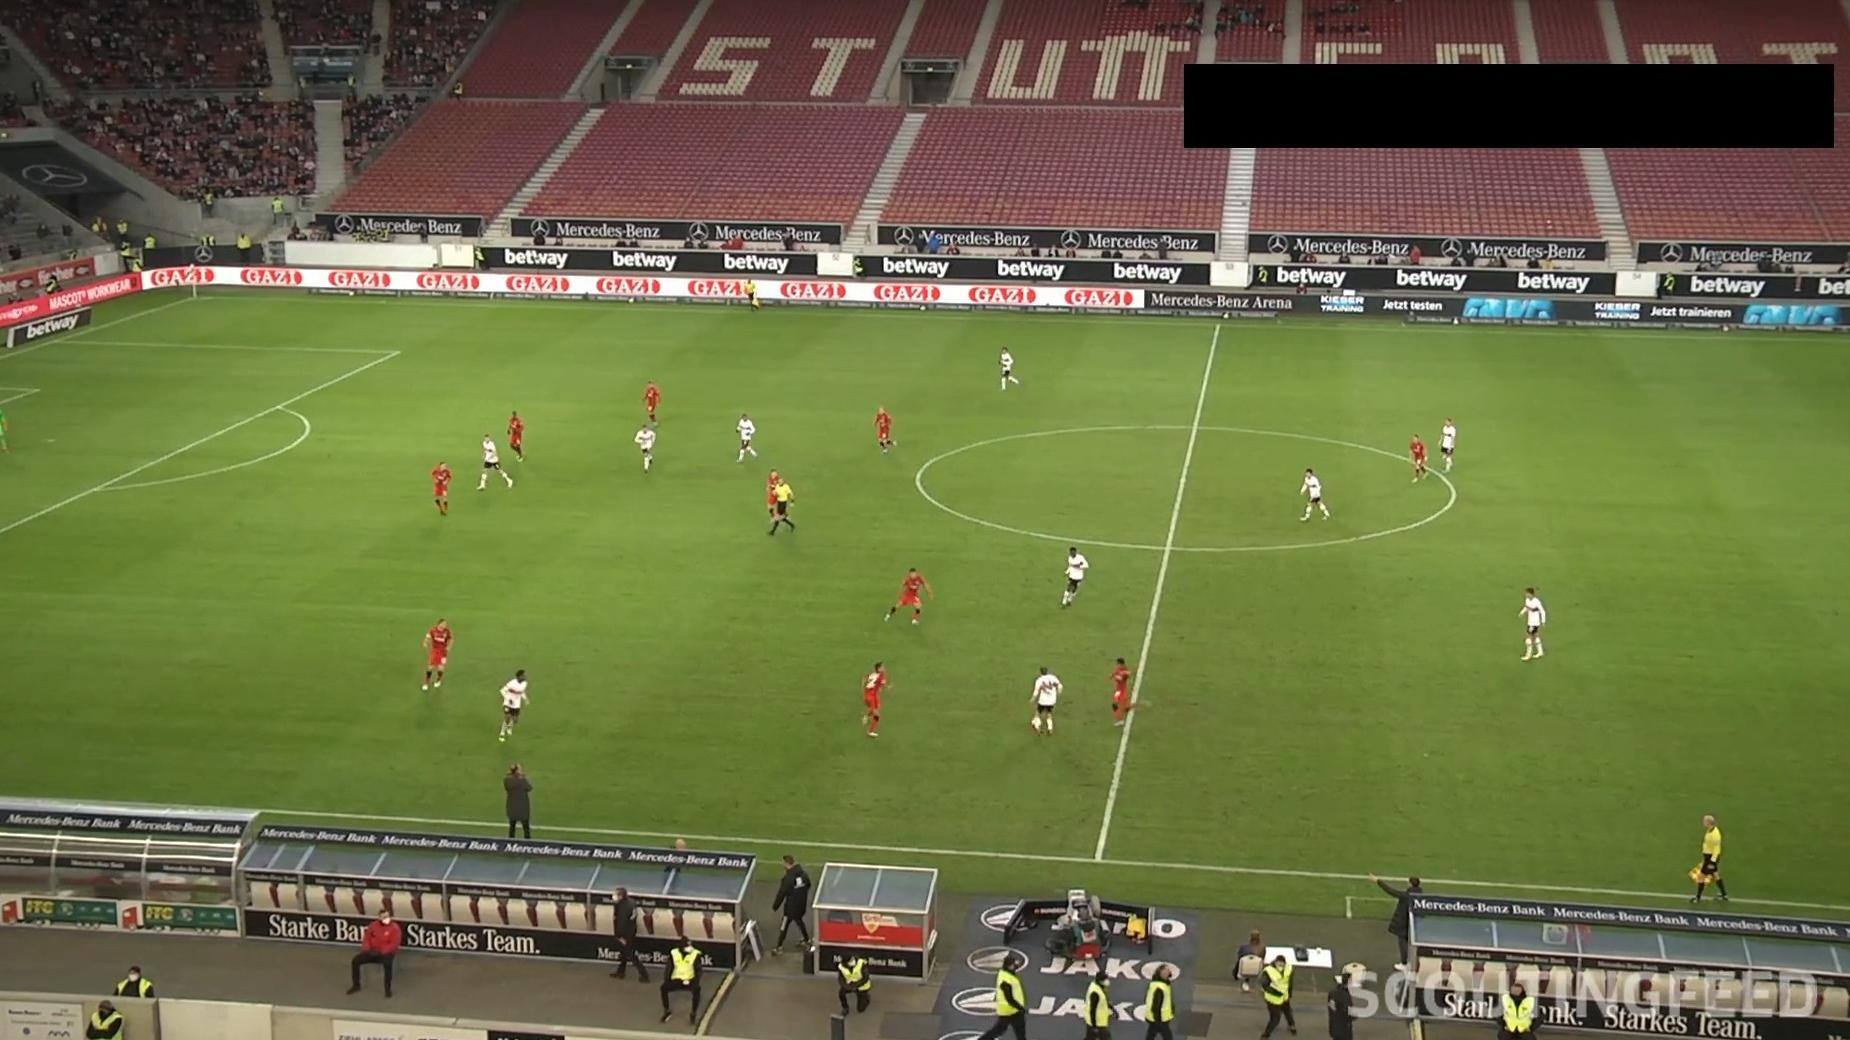ball: (1030, 716, 1044, 728)
